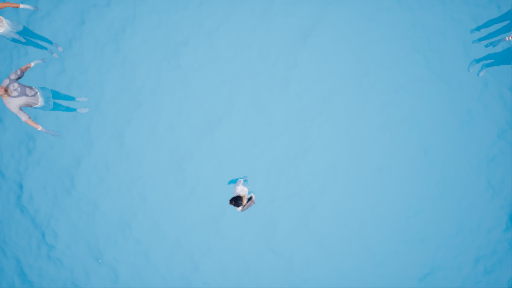person: (1, 57, 94, 128), (1, 1, 71, 58), (215, 170, 261, 220)
